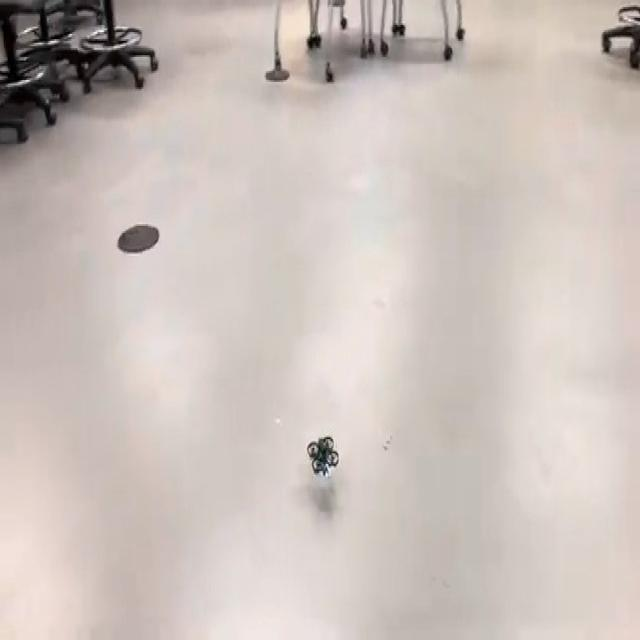drone: (296, 416, 347, 492)
